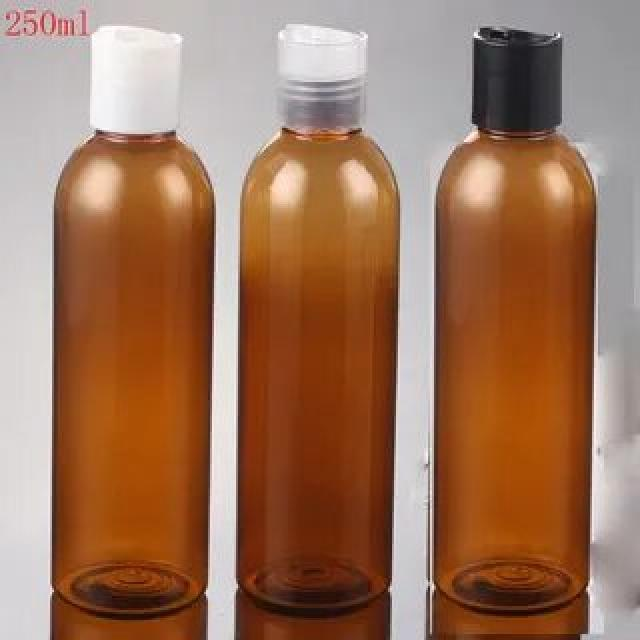brown: (433, 128, 597, 615), (52, 130, 215, 615), (238, 128, 400, 615)
